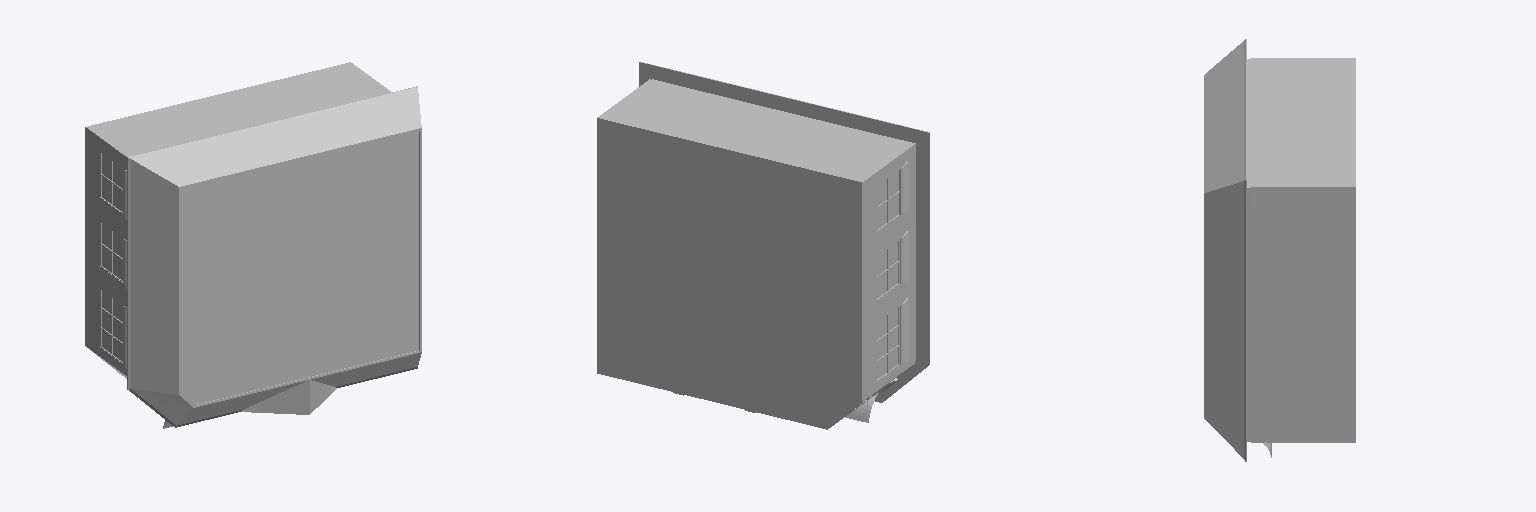
Rendered from 10065_Corner Grocery Store_V2_L3.obj.
The picture shows the model from 3 angles: view 1: azimuth 30°, elevation 25°; view 2: azimuth 150°, elevation 25°; view 3: azimuth 270°, elevation 25°; orthographic projection.
Visible parts, largest first — view 1: 10065_Corner_Grocery_Store_V2; view 2: 10065_Corner_Grocery_Store_V2; view 3: 10065_Corner_Grocery_Store_V2.
Part boxes in pixels (x1,y1,x2,y2): 10065_Corner_Grocery_Store_V2: (85, 62, 421, 428); 10065_Corner_Grocery_Store_V2: (597, 62, 929, 429); 10065_Corner_Grocery_Store_V2: (1204, 39, 1355, 461).
Size of the model in its own units: 1131 by 1089 by 513.